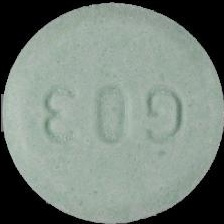55289-692: (0, 0, 224, 224)
